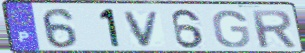1: (96, 8, 123, 50)
6: (40, 7, 79, 50), (171, 8, 205, 50)
G: (210, 9, 252, 49)
R: (248, 9, 298, 49)
V: (121, 10, 162, 48)
